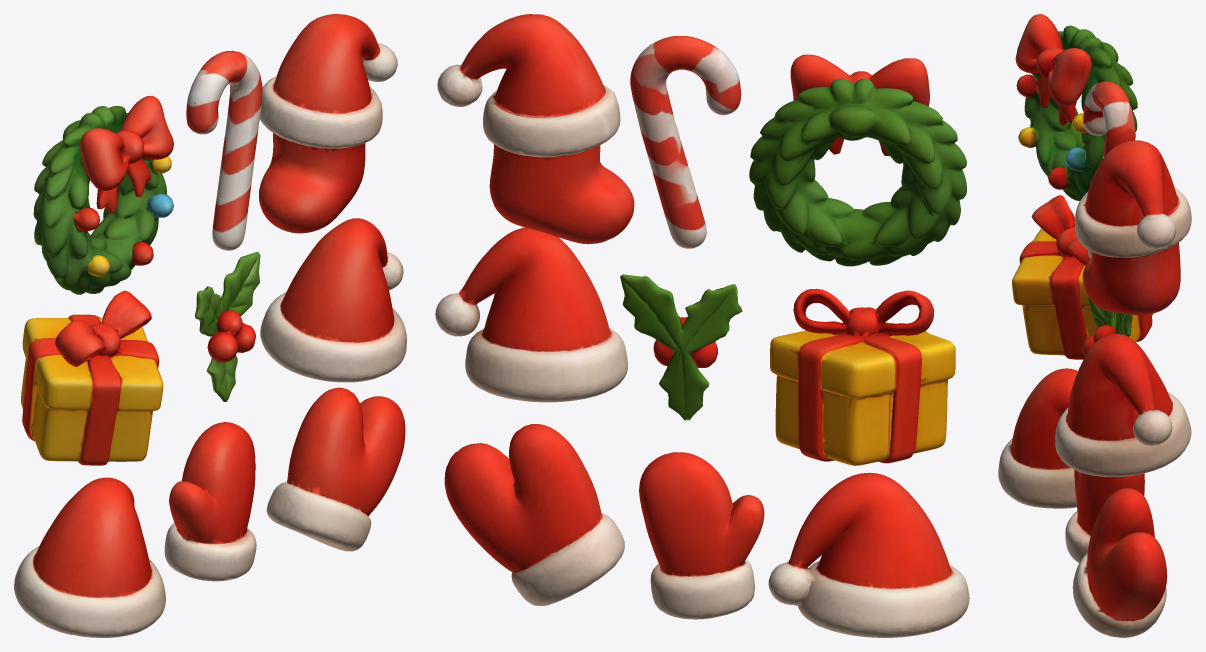
File: gifts.glb
3 views of the same model, side by side, from view 1: azimuth 30°, elevation 25°; view 2: azimuth 150°, elevation 25°; view 3: azimuth 270°, elevation 25° (orthographic). The views are drawn at different scales.
Visible parts, largest first — view 1: tripo_part_2, tripo_part_0, tripo_part_1, tripo_part_5, tripo_part_3, tripo_part_4, tripo_part_7, tripo_part_8, tripo_part_6; view 2: tripo_part_0, tripo_part_2, tripo_part_1, tripo_part_3, tripo_part_5, tripo_part_4, tripo_part_7, tripo_part_8, tripo_part_6; view 3: tripo_part_2, tripo_part_5, tripo_part_0, tripo_part_4, tripo_part_1, tripo_part_3, tripo_part_7, tripo_part_8, tripo_part_6.
Boxes of the visible parts, x1,y1,x2,y2 form: tripo_part_2: [259, 14, 397, 233]; tripo_part_0: [33, 96, 173, 294]; tripo_part_1: [21, 290, 163, 465]; tripo_part_5: [260, 218, 406, 382]; tripo_part_3: [14, 477, 165, 637]; tripo_part_4: [266, 387, 405, 551]; tripo_part_7: [164, 422, 256, 581]; tripo_part_8: [186, 50, 262, 250]; tripo_part_6: [195, 251, 260, 401]; tripo_part_0: [749, 54, 966, 266]; tripo_part_2: [437, 14, 634, 244]; tripo_part_1: [770, 288, 955, 465]; tripo_part_3: [768, 472, 969, 637]; tripo_part_5: [435, 227, 627, 402]; tripo_part_4: [444, 424, 624, 605]; tripo_part_7: [639, 452, 764, 619]; tripo_part_8: [630, 35, 741, 248]; tripo_part_6: [620, 274, 742, 420]; tripo_part_2: [1075, 140, 1191, 315]; tripo_part_5: [1055, 334, 1191, 476]; tripo_part_0: [1015, 14, 1137, 201]; tripo_part_4: [1072, 488, 1167, 637]; tripo_part_1: [1012, 195, 1152, 359]; tripo_part_3: [998, 368, 1077, 508]; tripo_part_7: [1065, 470, 1144, 562]; tripo_part_8: [1083, 81, 1135, 258]; tripo_part_6: [1082, 295, 1132, 355].
Size of the model in its own units: 0.816 by 0.9795 by 0.3468.
Materials: 9 (9 with a texture image).
